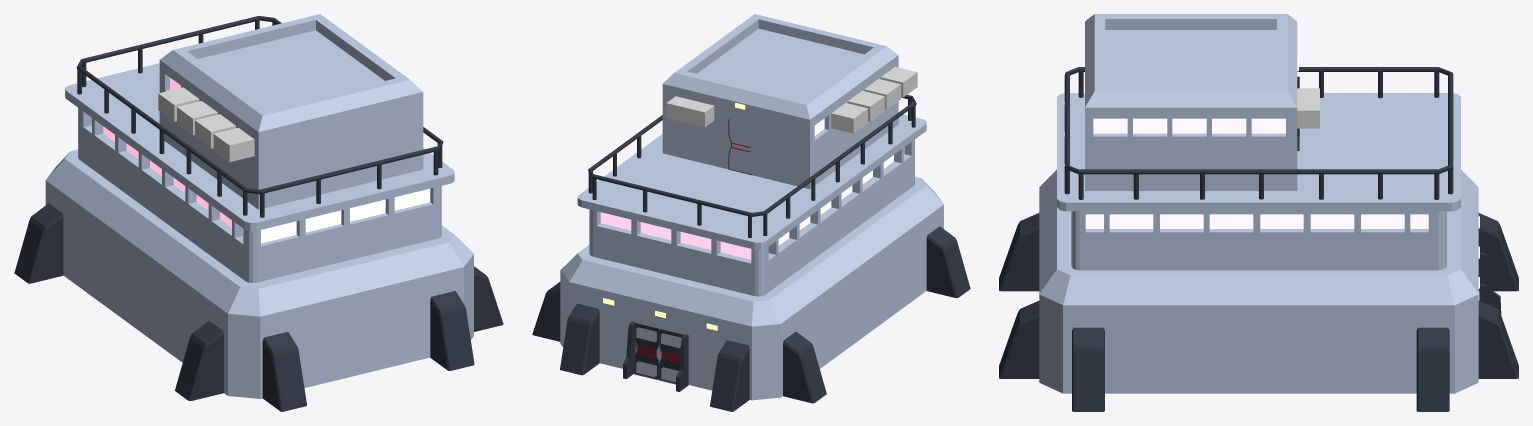
File: Barrack.glb
3 renders of one model, left to right at view 1: azimuth 30°, elevation 25°; view 2: azimuth 150°, elevation 25°; view 3: azimuth 270°, elevation 25°, orthographic. The views are drawn at different scales.
Visible parts, largest first — view 1: Cube, Cube.012, Cylinder.001, Cube.007, Cube.003, Cube.008, Cube.004; view 2: Cube, Cube.012, Cylinder.001, Plane.001, Cube.002, Plane, Cube.009, Cube.003, Cube.007, Cube.004, Cube.008, Plane.003; view 3: Cube, Cube.012, Cylinder.001, Cube.002, Cube.009.
Boxes of the visible parts, x1,y1,x2,y2 form: Cube: (45, 14, 473, 398); Cube.012: (14, 203, 503, 411); Cylinder.001: (76, 16, 443, 217); Cube.007: (213, 128, 254, 162); Cube.003: (158, 87, 199, 121); Cube.008: (195, 114, 235, 148); Cube.004: (177, 101, 217, 135); Cube: (560, 14, 943, 400); Cube.012: (532, 226, 970, 411); Cylinder.001: (588, 95, 916, 237); Plane.001: (634, 323, 659, 379); Cube.002: (666, 96, 714, 127); Plane: (658, 329, 683, 384); Cube.009: (623, 321, 688, 391); Cube.003: (831, 103, 867, 133); Cube.007: (880, 66, 917, 97); Cube.004: (848, 90, 884, 121); Cube.008: (864, 79, 900, 109); Plane.003: (728, 119, 752, 175); Cube: (1039, 14, 1478, 393); Cube.012: (999, 213, 1518, 411); Cylinder.001: (1064, 67, 1453, 199); Cube.002: (1297, 88, 1319, 128); Cube.009: (1479, 252, 1501, 314).
Size of the model in its own units: 2.09 by 1.64 by 2.78.
